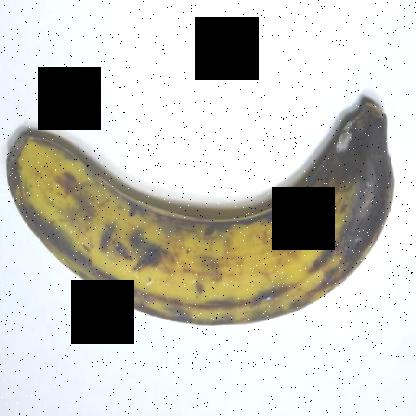overripe: (15, 65, 400, 349)
rotten: (298, 66, 408, 280)
